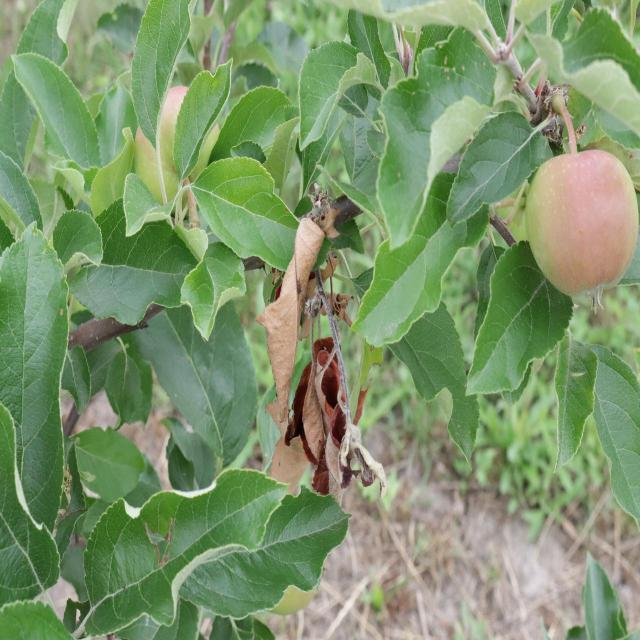-FireBlight-: (260, 205, 386, 492)
